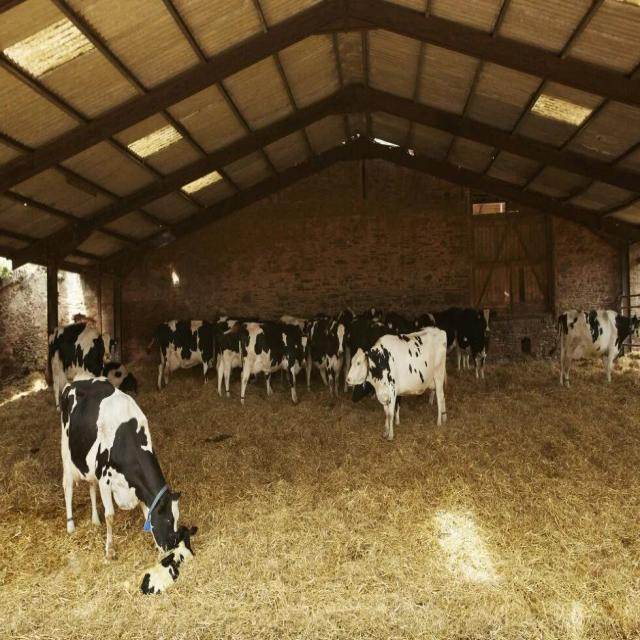cow: (145, 303, 497, 408), (58, 376, 195, 560), (344, 325, 448, 441), (553, 307, 639, 388), (44, 320, 120, 410), (146, 317, 220, 391), (138, 523, 198, 596), (453, 306, 497, 379)
